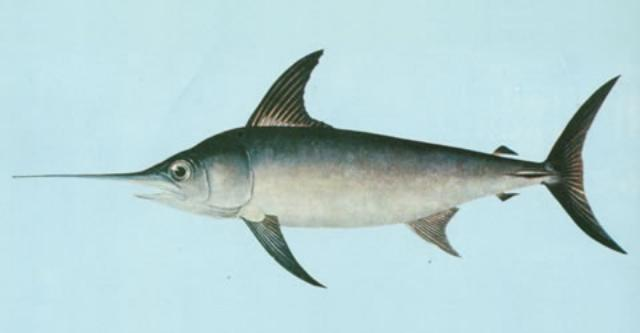Mulut: (0, 142, 214, 235)
Sirip Anal: (488, 140, 528, 210)
Sirip Dada: (233, 205, 334, 301)
Sirip Ekor: (536, 65, 636, 265)
Sirip Perut: (399, 200, 471, 262)
Sirip Punggung: (236, 40, 344, 140)
